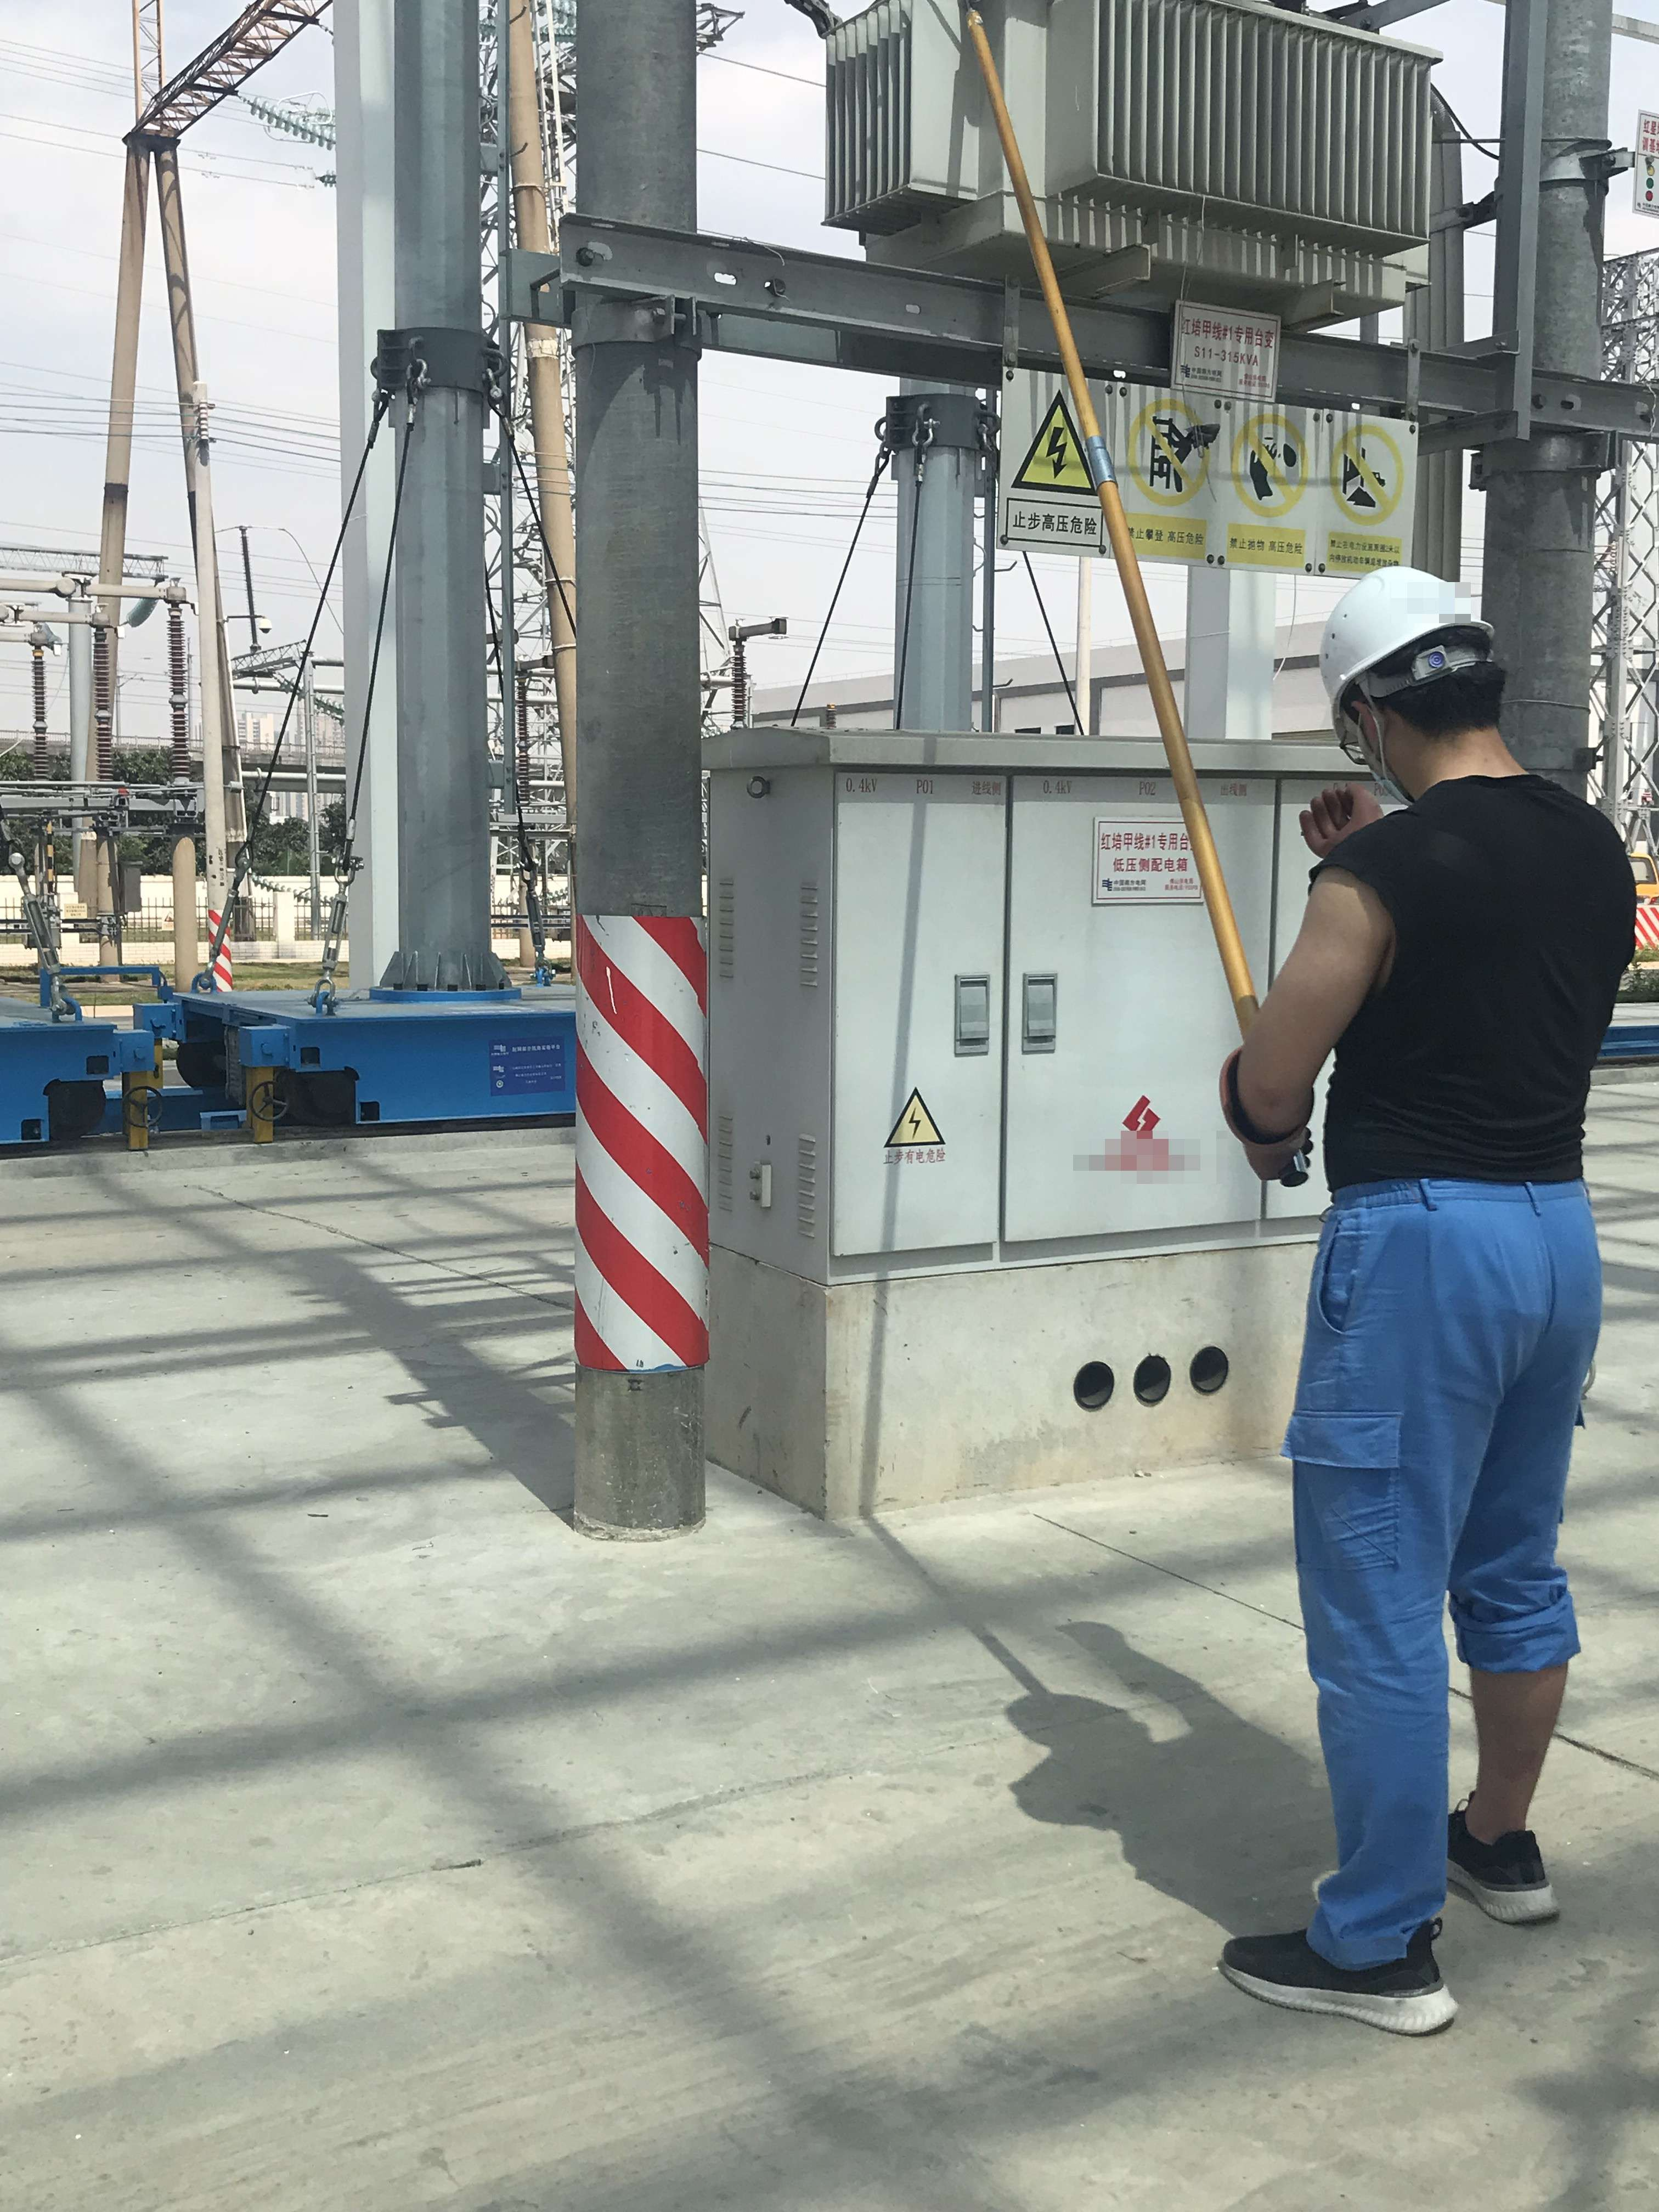downsuit: (1267, 1169, 1605, 1966)
upcloth: (1272, 752, 1643, 1193)
wrongbottom: (1460, 1625, 1581, 1857)
